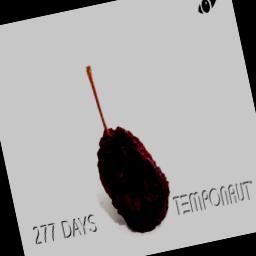Apple Rotten: (54, 8, 198, 244)
